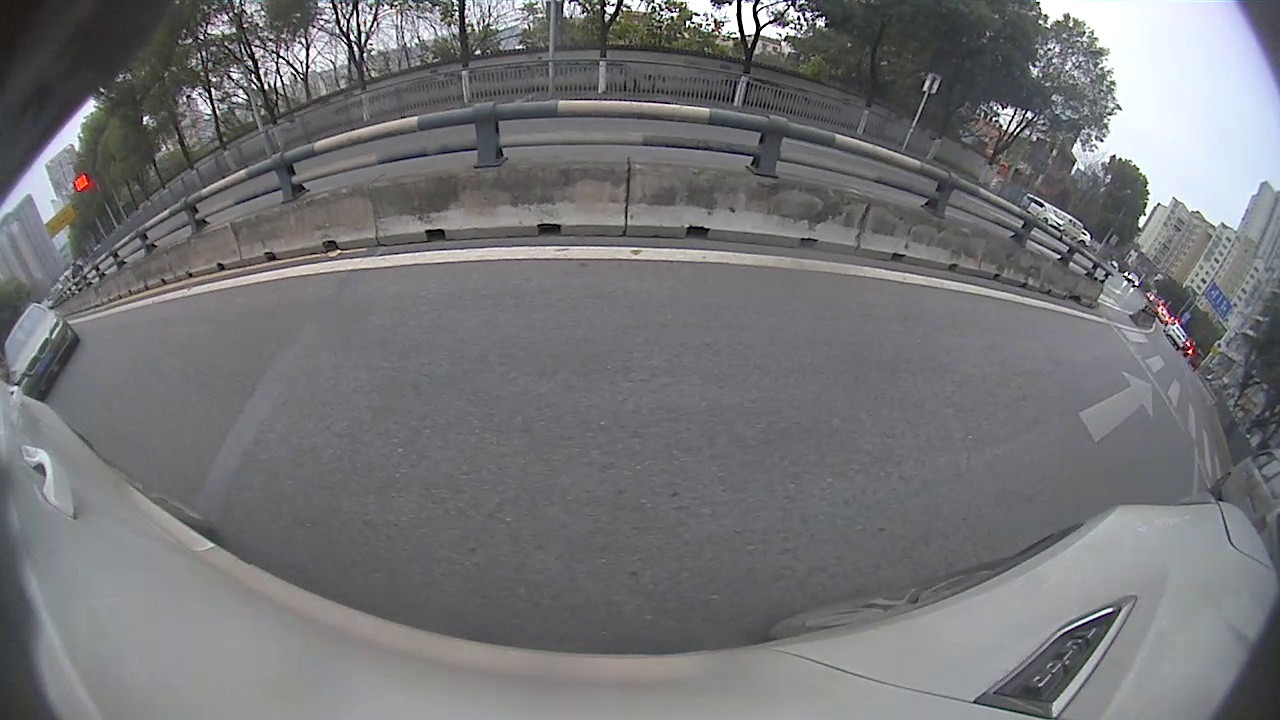car: (1, 301, 82, 406)
